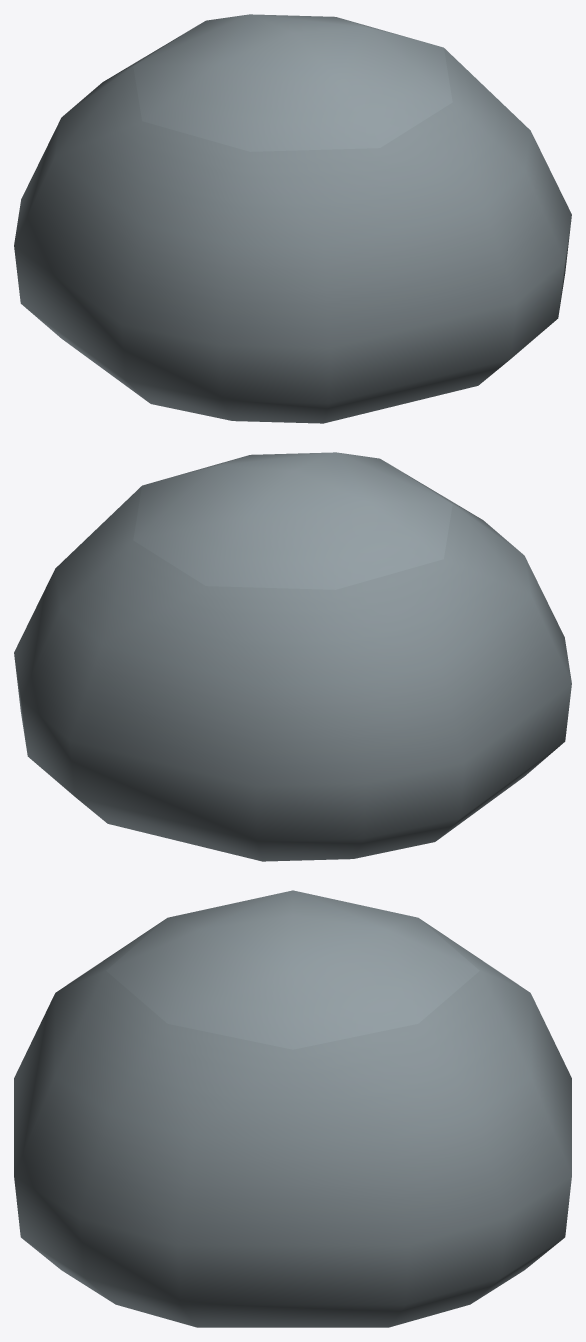
Rendered from Rock_5_C_Color1.gltf.
3 views of the same model, one above another, from view 1: azimuth 30°, elevation 25°; view 2: azimuth 150°, elevation 25°; view 3: azimuth 270°, elevation 25° (orthographic). The views are drawn at different scales.
Visible parts, largest first — view 1: Rock_5_C_Color1; view 2: Rock_5_C_Color1; view 3: Rock_5_C_Color1.
Boxes of the visible parts, <box> form: Rock_5_C_Color1: <box>14,14,571,423</box>; Rock_5_C_Color1: <box>14,452,571,861</box>; Rock_5_C_Color1: <box>14,890,571,1327</box>.
Bounding box in the file's own units: 0.9216 × 0.6171 × 0.9216.
1 material, 1 textured.
